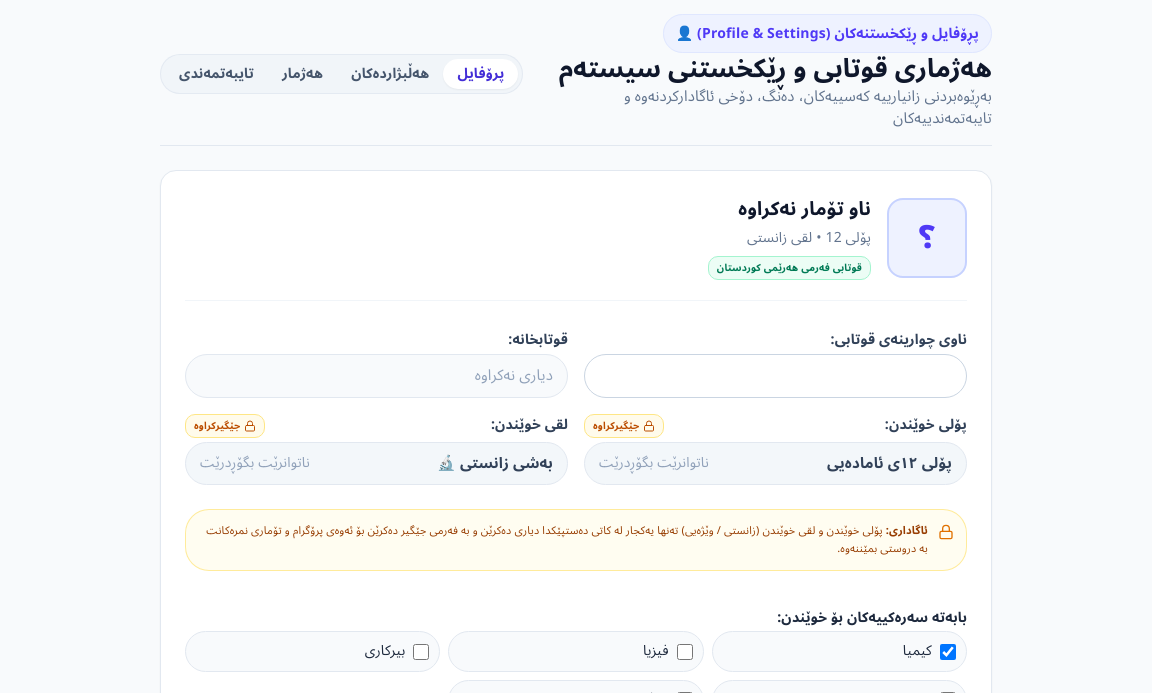
Test: ZANA Smart Board Feature › hides Smart Board launcher when disabled and reveals it immediately when enabled from Settings
The width and height of the screenshot is (1152, 693).
Note: Navigate to Preferences tab and toggle Smart Board ON
Click the button "هەڵبژاردەکان": click(390, 74) [337, 59, 443, 90]
(page scrolled)
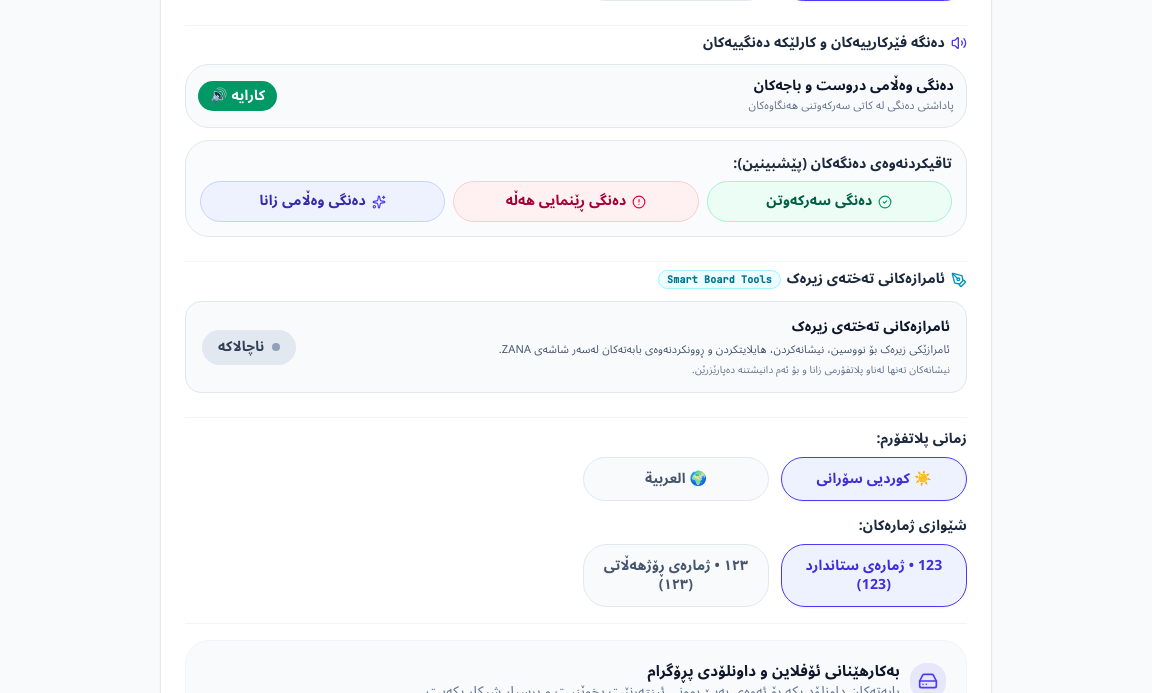
Now the text "ئامرازەکانی تەختەی زیرەک" next to "Smart Board Tools" is shown, box [787, 264, 945, 293]
Click the switch with test id "smartboard-settings-toggle": click(249, 347) [202, 330, 296, 365]
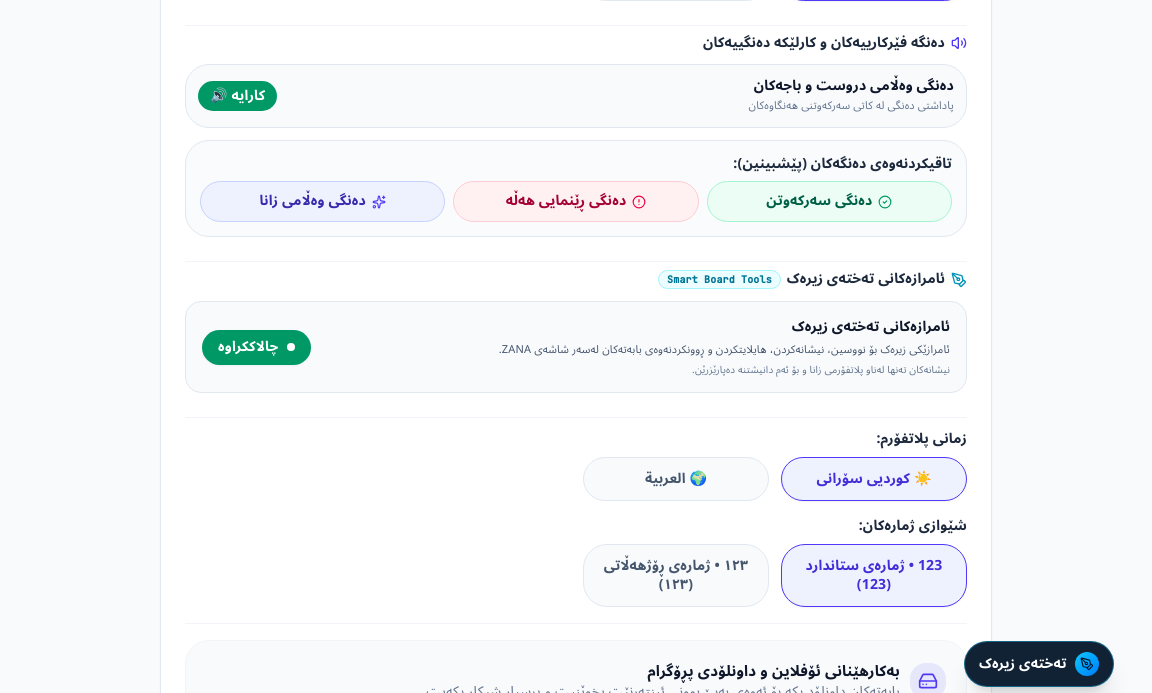
Now the button with test id "smartboard-launcher" is shown, box [964, 641, 1114, 687]
Note: Disable again cleanly removes launcher and annotation overlay
Click the switch with test id "smartboard-settings-toggle": click(256, 347) [202, 330, 310, 365]
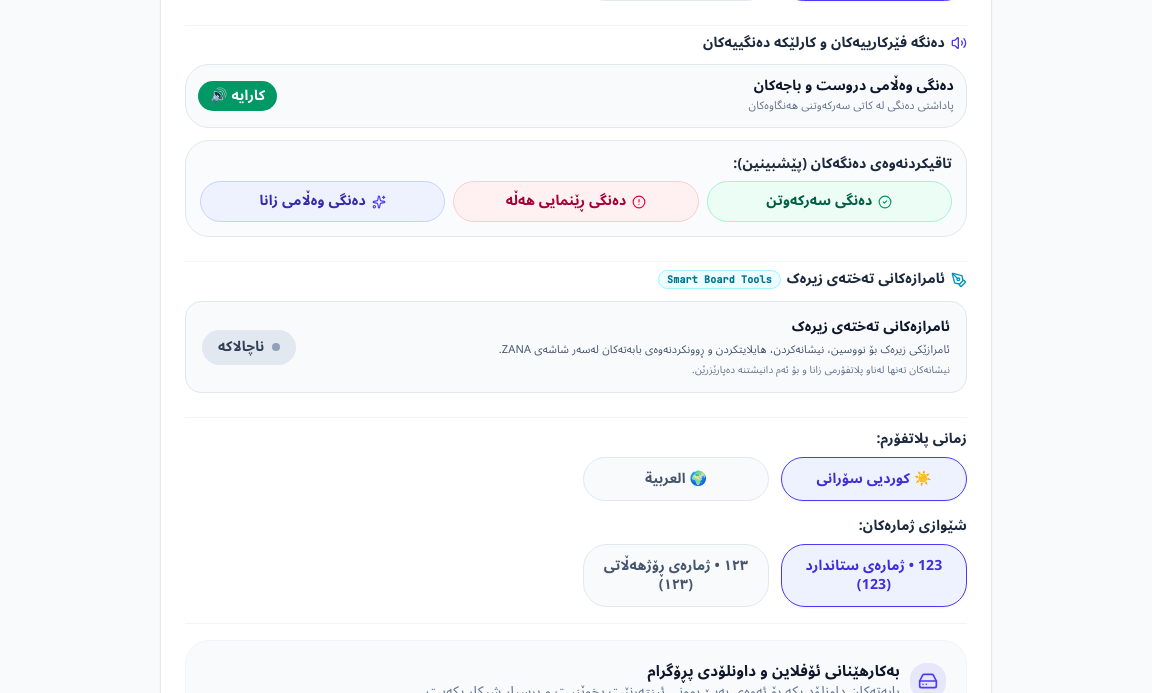
Now the button with test id "smartboard-launcher" is gone
